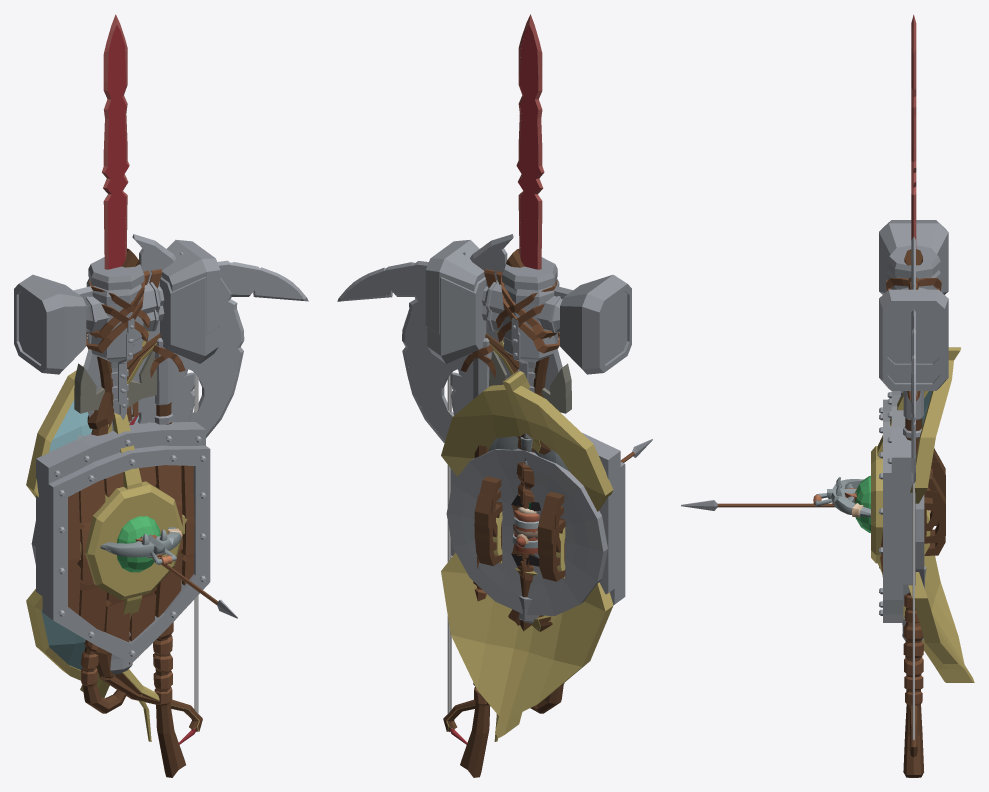
File: armas.glb
3 views of the same model, side by side, from view 1: azimuth 30°, elevation 25°; view 2: azimuth 150°, elevation 25°; view 3: azimuth 270°, elevation 25° (orthographic). The views are drawn at different scales.
Visible parts, largest first — view 1: Steel (×8), LightWood (×5), Gold (×2), DarkWood (×4), Red, LightBlue, LightSteel (×3), DarkSteel, LightRed, crossbow_2handed, Green; view 2: Steel (×10), Gold, DarkWood (×6), Red, LightWood (×3), LightRed, LightSteel (×2), DarkSteel, mug_full, axe_2handed; view 3: Steel (×6), Gold, DarkWood (×3), LightWood (×2), LightRed, crossbow_2handed, White, Green.
Part boxes in pixels (x1,y1,x2,y2): Steel (×8): [14, 238, 303, 675]; LightWood (×5): [68, 269, 194, 705]; Gold (×2): [26, 331, 199, 741]; DarkWood (×4): [82, 248, 202, 777]; Red: [105, 25, 128, 269]; LightBlue: [41, 399, 138, 669]; LightSteel (×3): [58, 252, 308, 656]; DarkSteel: [74, 350, 156, 413]; LightRed: [102, 14, 129, 269]; crossbow_2handed: [88, 526, 182, 565]; Green: [117, 516, 160, 572]; Steel (×10): [342, 238, 631, 623]; Gold: [441, 371, 613, 738]; DarkWood (×6): [447, 249, 565, 777]; Red: [517, 25, 541, 269]; LightWood (×3): [460, 276, 559, 705]; LightRed: [516, 14, 544, 269]; LightSteel (×2): [337, 252, 574, 442]; DarkSteel: [489, 350, 571, 530]; mug_full: [512, 507, 539, 553]; axe_2handed: [488, 436, 568, 470]; Steel (×6): [879, 220, 948, 641]; Gold: [871, 347, 974, 682]; DarkWood (×3): [903, 418, 945, 777]; LightWood (×2): [717, 391, 923, 704]; LightRed: [911, 14, 916, 248]; crossbow_2handed: [813, 477, 930, 522]; White: [912, 482, 914, 739]; Green: [855, 475, 870, 532].
Bounding box in the file's own units: 3.55 × 9.45 × 3.4.
18 materials, 3 textured.
